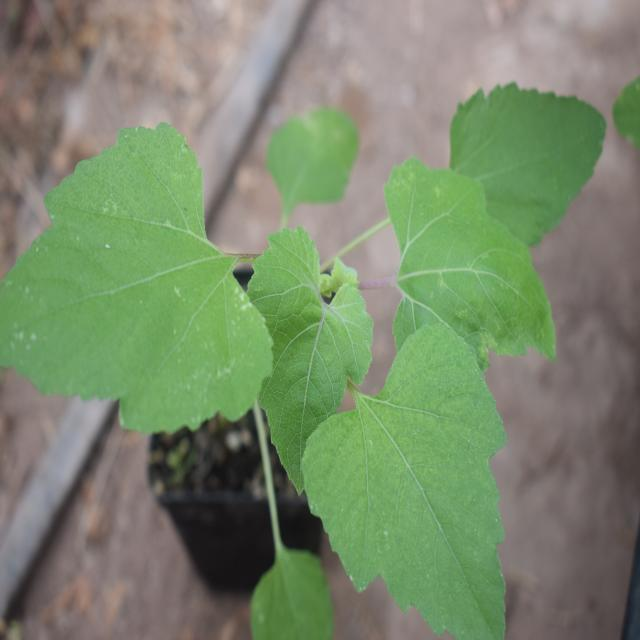cocklebur: (19, 112, 586, 631)
